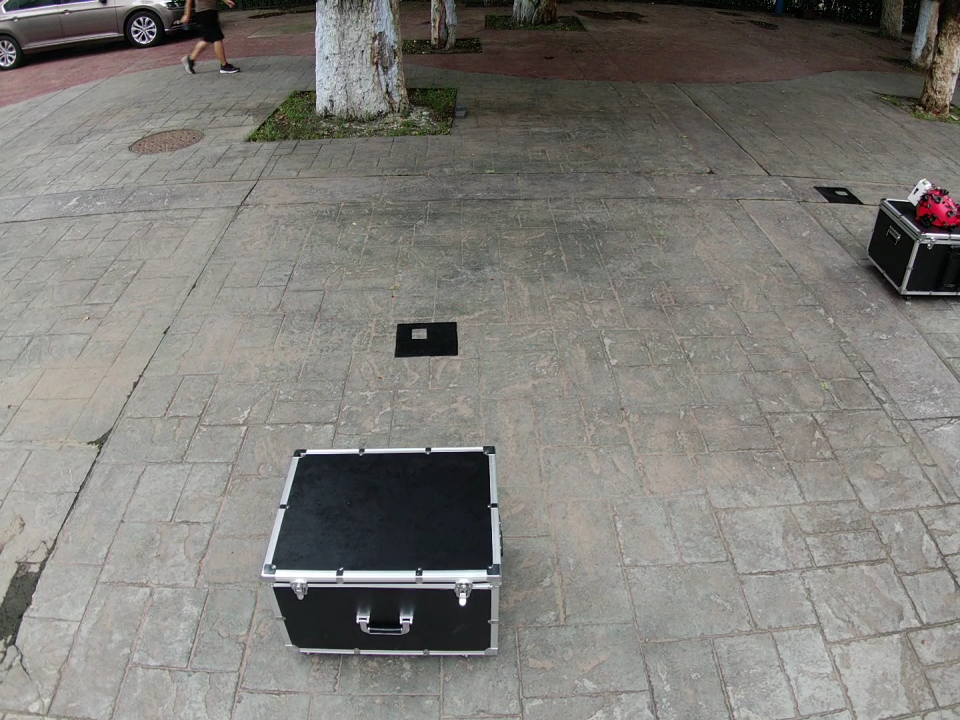box: (261, 447, 500, 655), (868, 198, 960, 294)
helmet: (915, 190, 959, 227)
qrcode: (395, 322, 458, 357), (814, 187, 864, 205)
